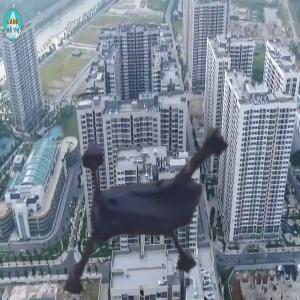drone: (37, 59, 279, 300)
